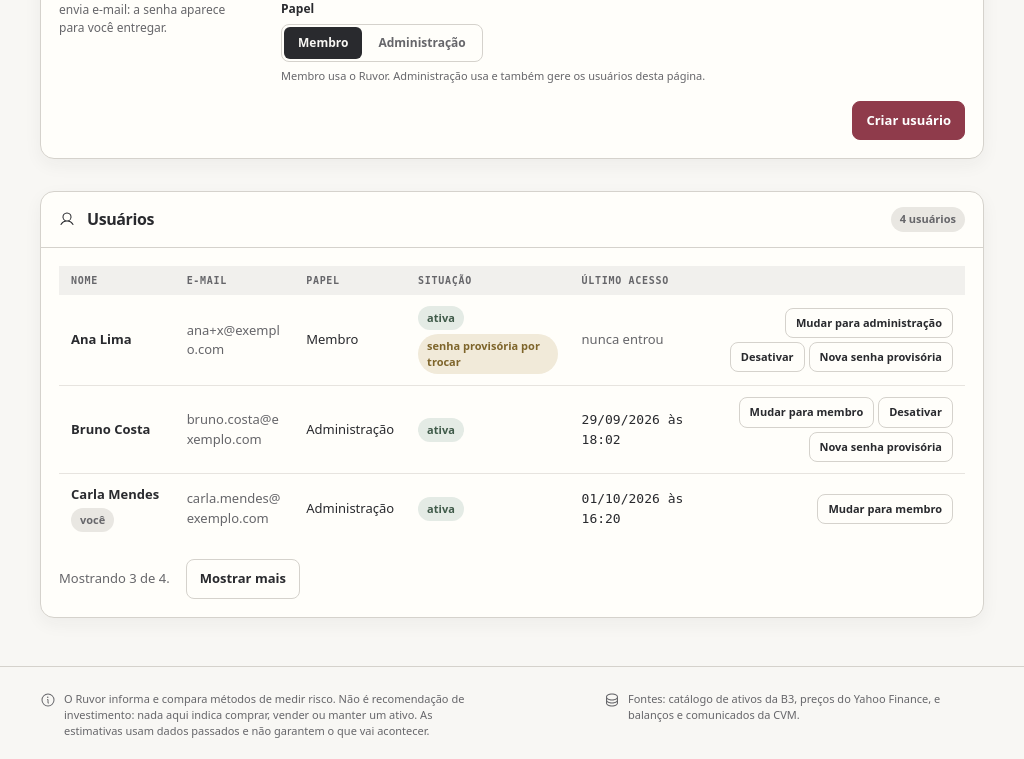
Test: a lista (RF-11) › Mostrar mais pede a página seguinte pelo offset e não repete e-mail
(page scrolled)
Click the button "Mostrar mais" at (243, 579), box [186,559,300,599]
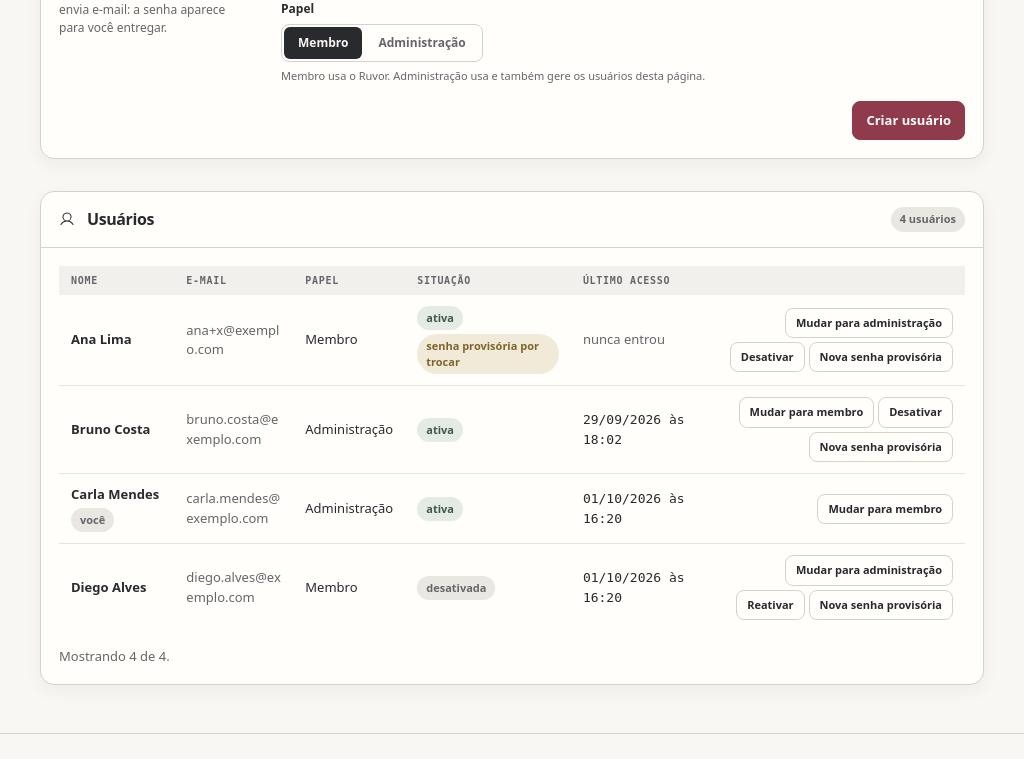
Expected: the button "Mostrar mais" is gone
